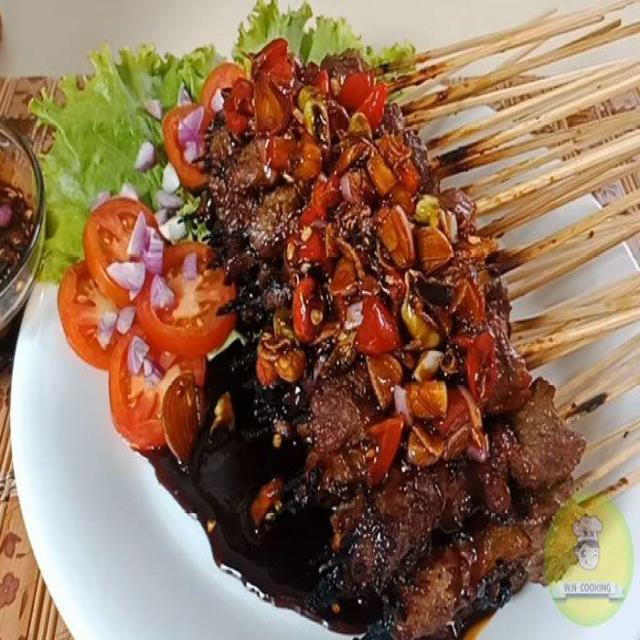Sate: (171, 39, 640, 639)
